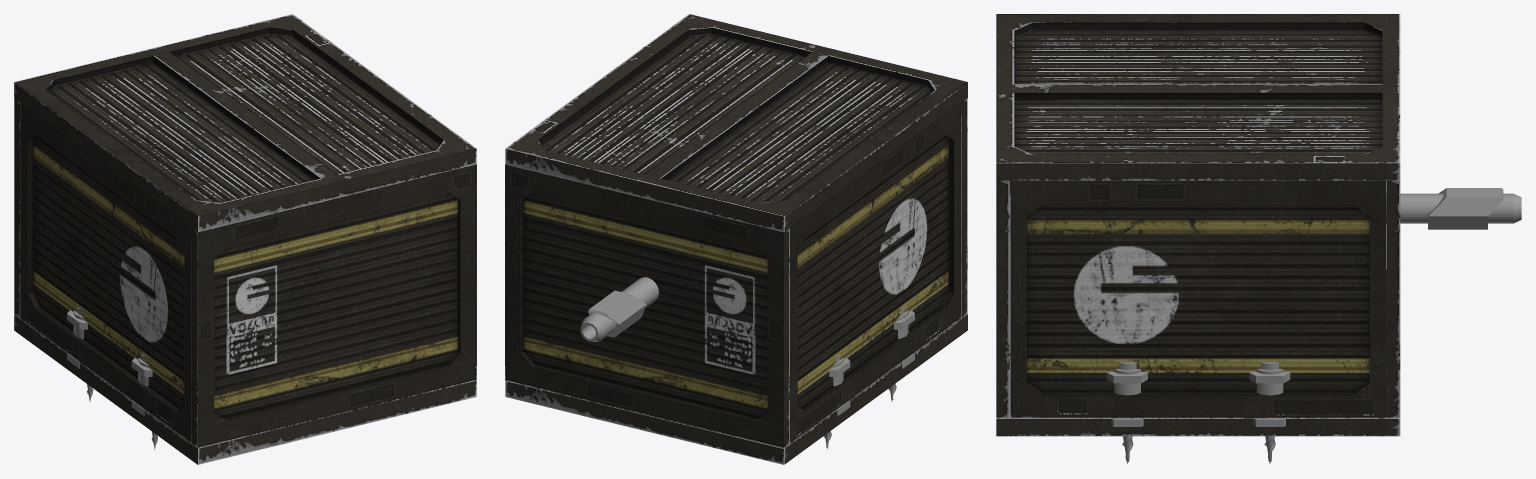
File: Outpost_Artillery.FBX
3 views of the same model, side by side, from view 1: azimuth 30°, elevation 25°; view 2: azimuth 150°, elevation 25°; view 3: azimuth 270°, elevation 25° (orthographic). The views are drawn at different scales.
Visible parts, largest first — view 1: crate_back, crate_top, crate_left, crate_base, crate_front, leg4, leg3; view 2: crate_front, crate_top, crate_left, crate_base, barrel, crate_back, leg3, leg4; view 3: crate_right, crate_top, crate_base, barrel, crate_back, crate_front, leg1, leg2.
Boxes of the visible parts, left/top/right/bottom form: crate_back: left=192, top=164, right=476, bottom=448; crate_top: left=14, top=14, right=476, bottom=232; crate_left: left=20, top=103, right=191, bottom=443; crate_base: left=14, top=314, right=476, bottom=464; crate_front: left=14, top=98, right=20, bottom=318; leg4: left=131, top=354, right=152, bottom=416; leg3: left=67, top=307, right=87, bottom=368; crate_front: left=505, top=164, right=789, bottom=448; crate_top: left=505, top=14, right=967, bottom=232; crate_left: left=790, top=103, right=961, bottom=443; crate_base: left=505, top=314, right=967, bottom=464; barrel: left=580, top=277, right=658, bottom=341; crate_back: left=961, top=98, right=967, bottom=318; leg3: left=829, top=354, right=850, bottom=416; leg4: left=894, top=307, right=914, bottom=368; crate_right: left=1009, top=180, right=1386, bottom=418; crate_top: left=996, top=14, right=1400, bottom=180; crate_base: left=996, top=269, right=1400, bottom=436; barrel: left=1386, top=188, right=1521, bottom=229; crate_back: left=996, top=180, right=1009, bottom=418; crate_front: left=1387, top=180, right=1400, bottom=418; leg1: left=1249, top=362, right=1290, bottom=426; leg2: left=1107, top=362, right=1147, bottom=426.
Bounding box in the file's own units: 71.56 × 68.35 × 105.
2 materials, 1 textured.
